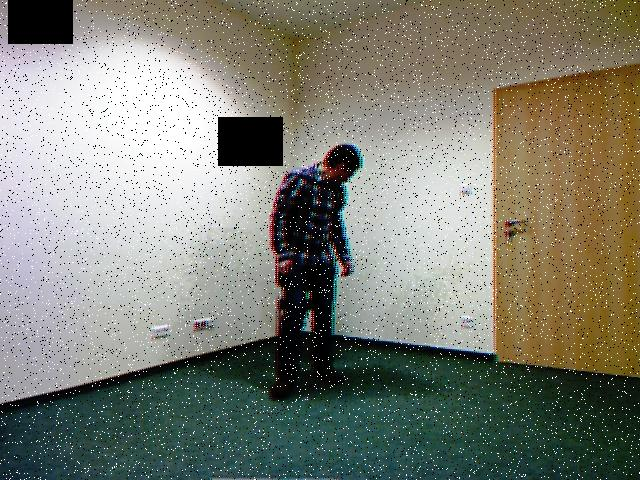walking: (267, 128, 362, 397)
